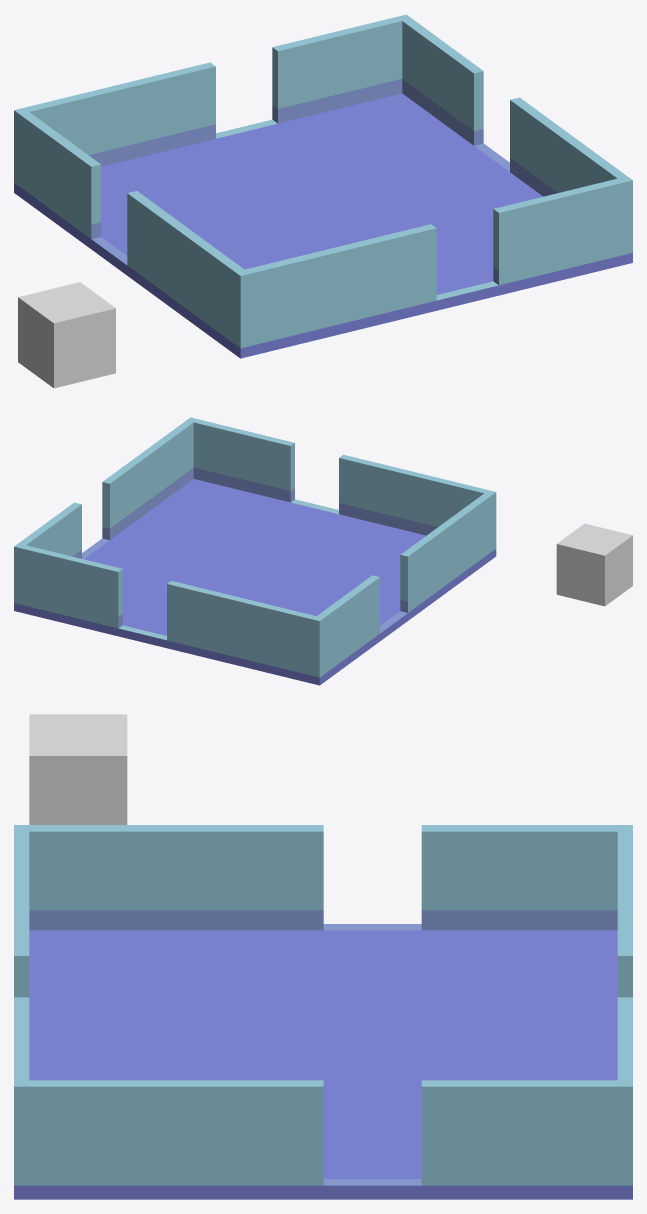
The model's file is RoomBase.fbx.
3 views of the same model, one above another, from view 1: azimuth 30°, elevation 25°; view 2: azimuth 150°, elevation 25°; view 3: azimuth 270°, elevation 25° (orthographic). The views are drawn at different scales.
Visible parts, largest first — view 1: Floor, Wall_c, Wall_a, Wall_b, Wall_d, Tile; view 2: Floor, Wall_a, Wall_c, Wall_b, Wall_d, Tile; view 3: Floor, Wall_d, Wall_b, Tile, Wall_a, Wall_c.
Part boxes in pixels (x1,y1,x2,y2): Floor: (14,93,632,358); Wall_c: (245,178,623,345); Wall_a: (14,14,411,186); Wall_b: (19,112,250,348); Wall_d: (402,18,632,254); Tile: (18,282,115,388); Floor: (14,479,496,685); Wall_a: (14,543,324,677); Wall_c: (193,419,488,535); Wall_b: (317,490,496,673); Wall_d: (18,417,197,559); Tile: (556,523,632,606); Floor: (14,930,632,1199); Wall_d: (14,1080,617,1185); Wall_b: (14,825,617,930); Tile: (29,714,127,824); Wall_a: (617,825,632,1185); Wall_c: (14,831,29,1080).
Bounding box in the file's own units: 1384 × 190 × 947.
